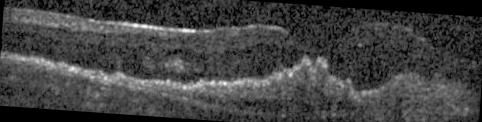subretinal_hyperreflective_material: (113, 53, 478, 122)
